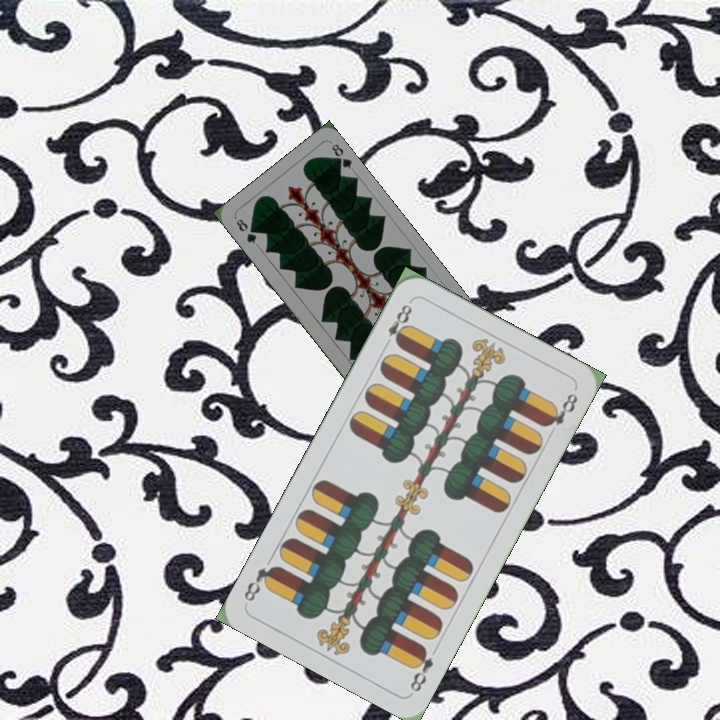E8: (379, 297, 415, 351), (405, 643, 436, 695)
G8: (232, 214, 259, 246)
